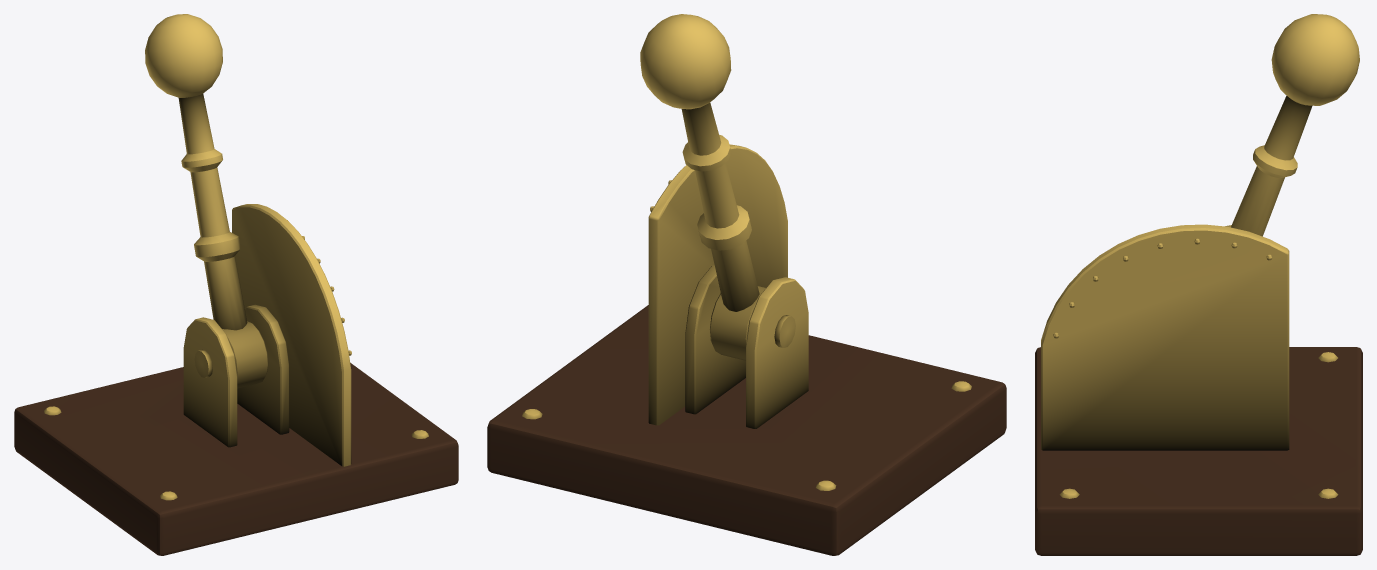
File: run_lever.glb
3 renders of one model, left to right at view 1: azimuth 30°, elevation 25°; view 2: azimuth 150°, elevation 25°; view 3: azimuth 270°, elevation 25°, orthographic. The views are drawn at different scales.
Visible parts, largest first — view 1: RunLever_Base, RunLever_Handle; view 2: RunLever_Base, RunLever_Handle; view 3: RunLever_Base, RunLever_Handle.
Boxes of the visible parts, x1,y1,x2,y2 form: RunLever_Base: [14, 204, 458, 555]; RunLever_Handle: [145, 14, 268, 388]; RunLever_Base: [487, 144, 1006, 555]; RunLever_Handle: [640, 14, 765, 360]; RunLever_Base: [1035, 224, 1362, 555]; RunLever_Handle: [1225, 14, 1359, 236].
Bounding box in the file's own units: 0.084 × 0.1097 × 0.071.
